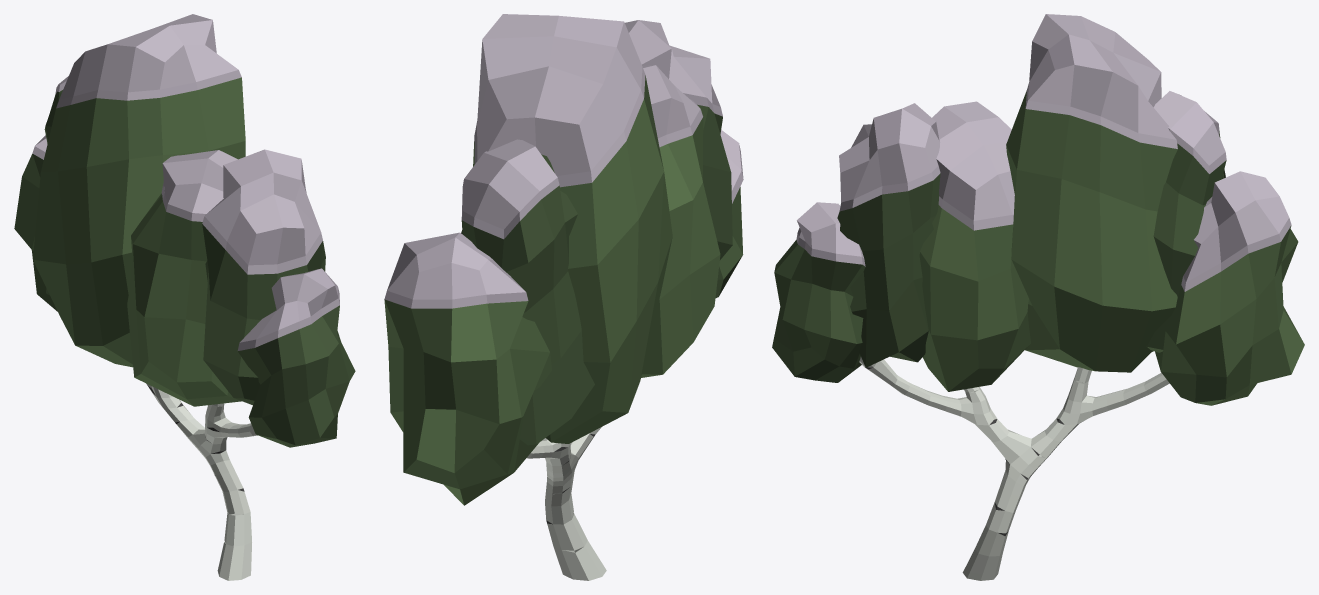
Rendered from birchtree_snow_4.glb.
3 renders of one model, left to right at view 1: azimuth 30°, elevation 25°; view 2: azimuth 150°, elevation 25°; view 3: azimuth 270°, elevation 25°, orthographic. The views are drawn at different scales.
Parts seen in each view (by area): view 1: BirchTree_Snow_4; view 2: BirchTree_Snow_4; view 3: BirchTree_Snow_4.
Part boxes in pixels (x1,y1,x2,y2): BirchTree_Snow_4: (14, 14, 355, 580); BirchTree_Snow_4: (384, 14, 743, 580); BirchTree_Snow_4: (772, 14, 1304, 580).
Bounding box in the file's own units: 2.77 × 8.64 × 7.89.
